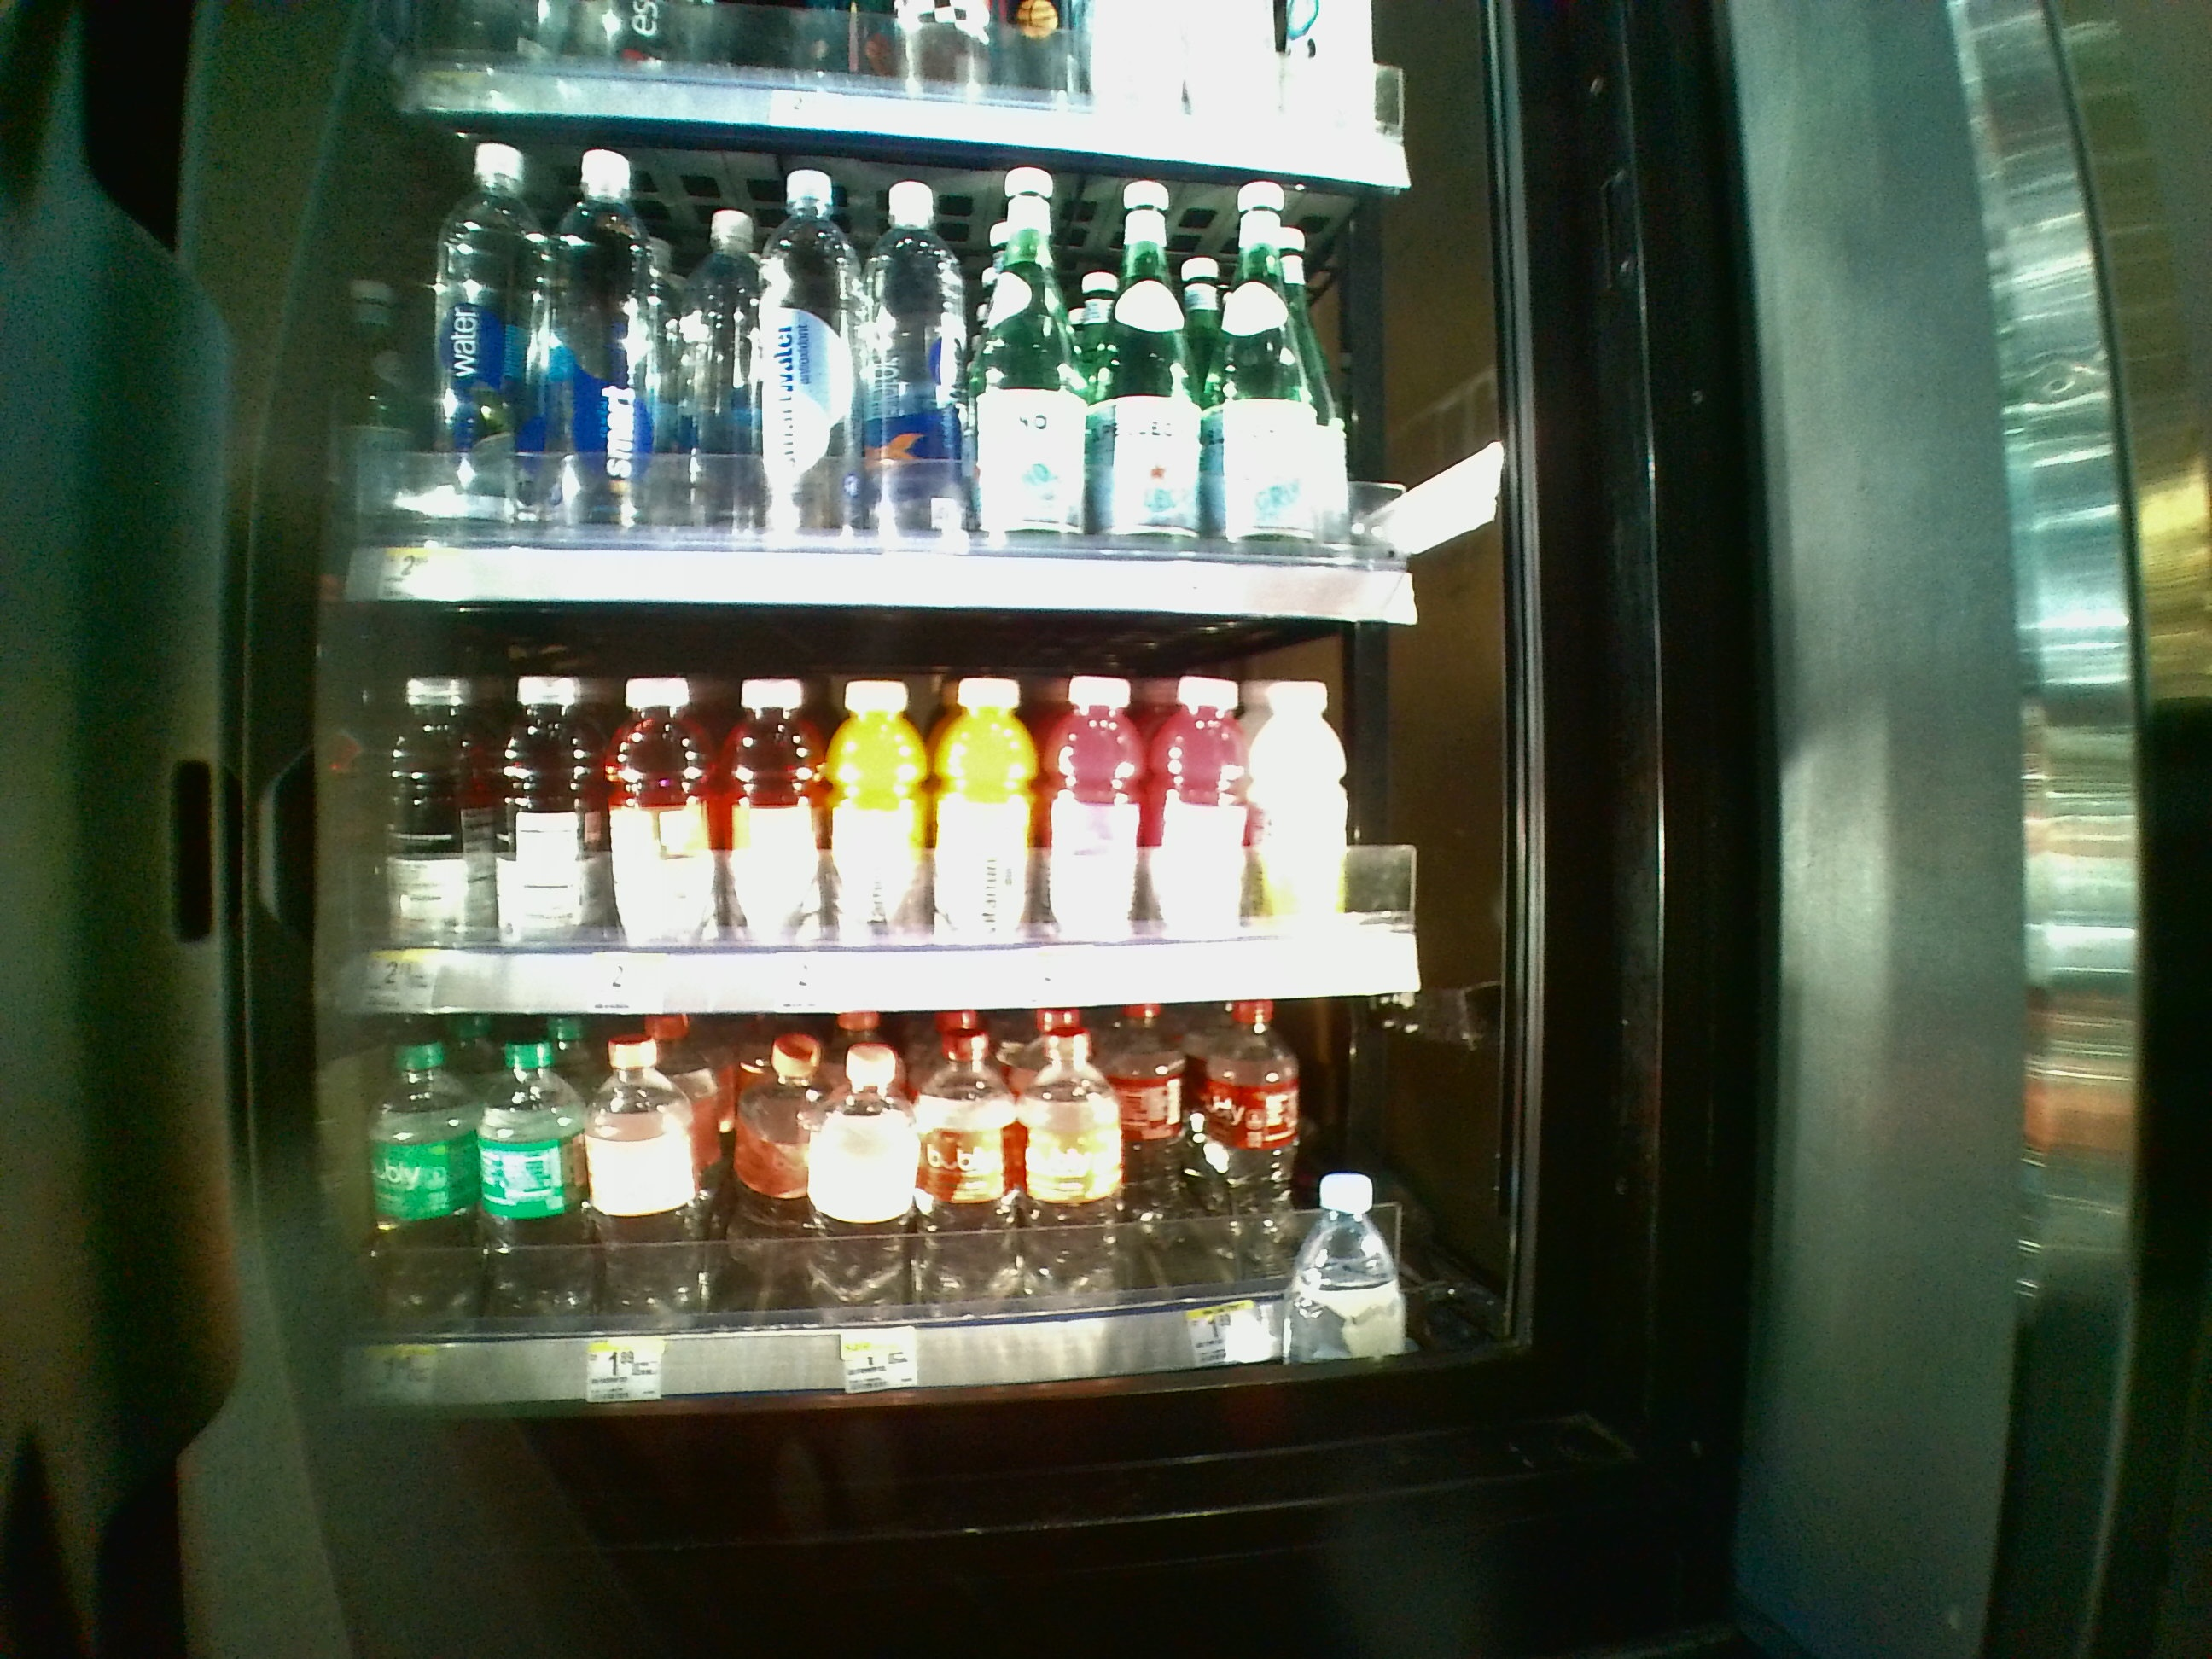Shelf: (296, 124, 1435, 626), (296, 626, 1456, 1014), (291, 1018, 1446, 1406)
